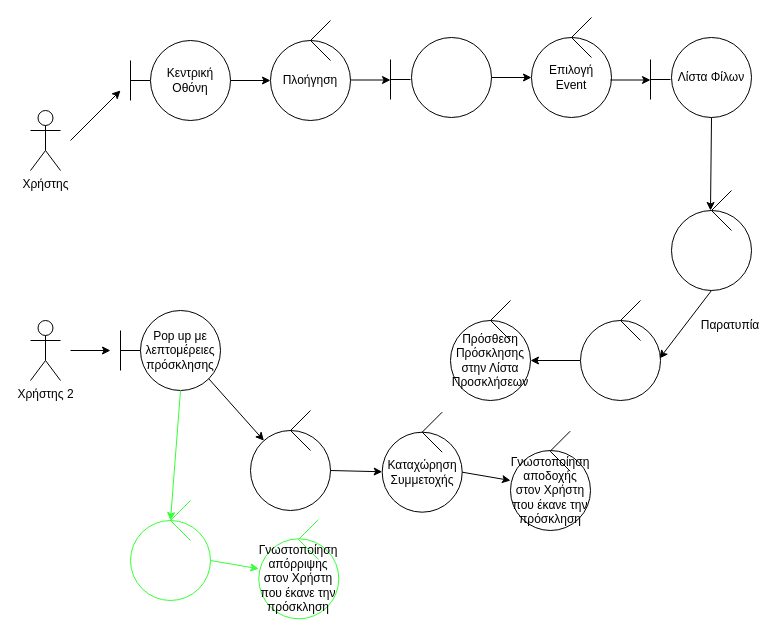
The diagram is 777 pixels wide and 637 high, and some of its shapes have lost their labels. Each missing label, with the box of its shape:
Go Together Screen: (410, 36, 492, 118)
Αποδοχή Πρόσκλησης: (250, 430, 330, 510)
Απόρριψη Πρόσκλησης: (130, 520, 210, 600)
Γνωστοποίηση στον Χρήστη 2: (580, 320, 660, 400)
Επιλογή Go Together για Χρήστη 2: (670, 210, 752, 290)
